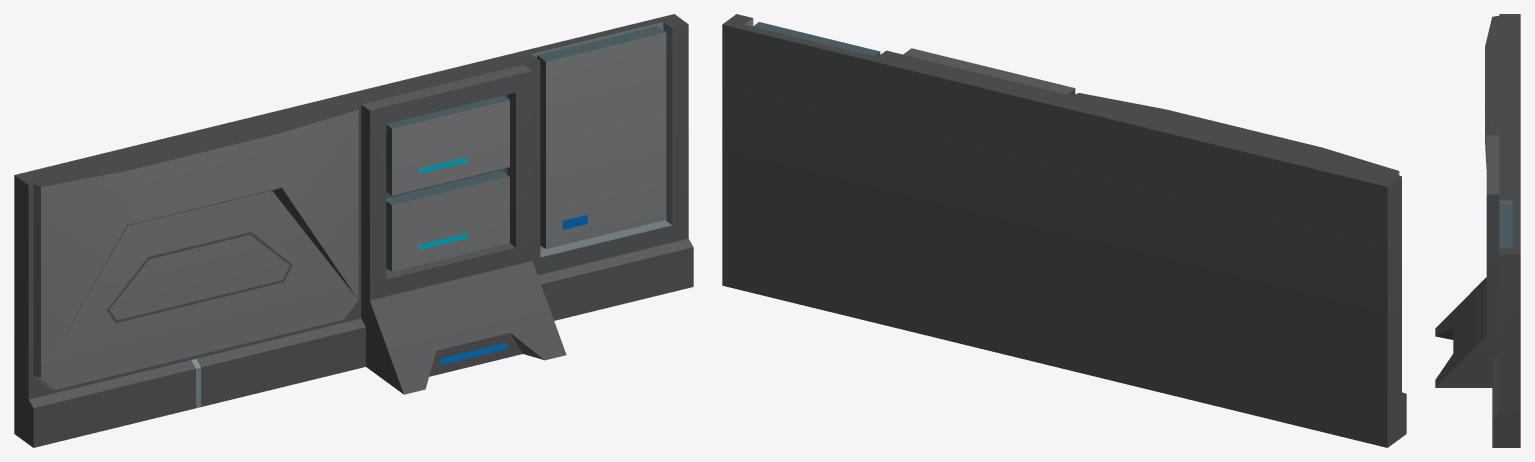
The model's file is Wall_type_B_032.fbx.
3 views of the same model, side by side, from view 1: azimuth 30°, elevation 25°; view 2: azimuth 150°, elevation 25°; view 3: azimuth 270°, elevation 25° (orthographic). The views are drawn at different scales.
Visible parts, largest first — view 1: Wall_type_B_032; view 2: Wall_type_B_032; view 3: Wall_type_B_032.
Part boxes in pixels (box(x1,y1,x2,y2)): Wall_type_B_032: box(14, 14, 693, 447); Wall_type_B_032: box(722, 14, 1406, 447); Wall_type_B_032: box(1435, 14, 1520, 447).
Bounding box in the file's own units: 400 × 60 × 150.
